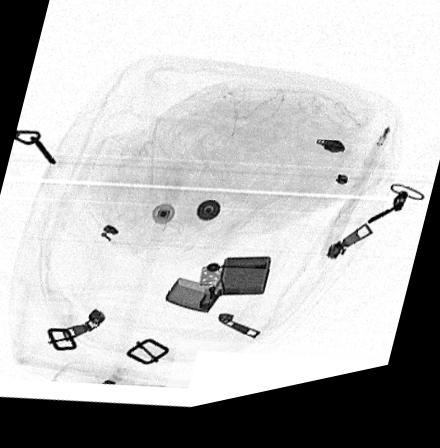Lighter: (165, 267, 271, 322)
